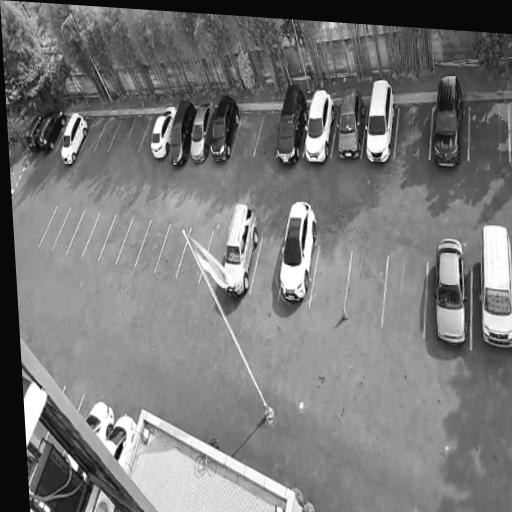Car: (425, 228, 474, 356), (471, 210, 512, 351), (216, 198, 265, 305), (277, 195, 322, 308), (426, 65, 470, 175), (273, 81, 311, 166), (300, 85, 339, 167), (363, 76, 398, 165), (206, 90, 243, 168), (163, 94, 199, 173), (335, 82, 366, 163), (187, 96, 217, 169), (102, 410, 138, 468), (57, 110, 90, 169), (147, 103, 178, 160), (36, 104, 68, 155), (83, 398, 119, 442)
Space Available: (382, 256, 427, 336), (343, 251, 387, 327), (309, 245, 352, 313), (468, 99, 510, 161), (395, 102, 432, 159), (250, 237, 284, 299), (177, 228, 213, 283), (155, 223, 191, 277), (135, 219, 170, 272), (116, 216, 151, 267), (82, 211, 117, 260), (99, 213, 133, 263), (200, 230, 229, 285), (53, 206, 86, 254), (68, 208, 100, 256), (232, 111, 265, 156), (253, 108, 282, 158), (39, 205, 71, 250), (124, 114, 152, 154), (108, 115, 136, 154), (94, 116, 121, 152), (139, 112, 160, 153), (82, 117, 108, 150), (62, 385, 84, 412), (78, 392, 97, 419)
